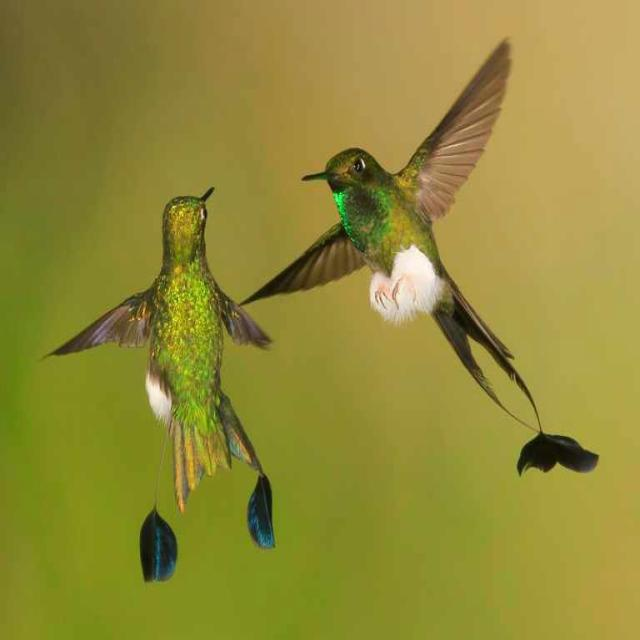hummingbird: (240, 40, 598, 474), (48, 187, 274, 581)
